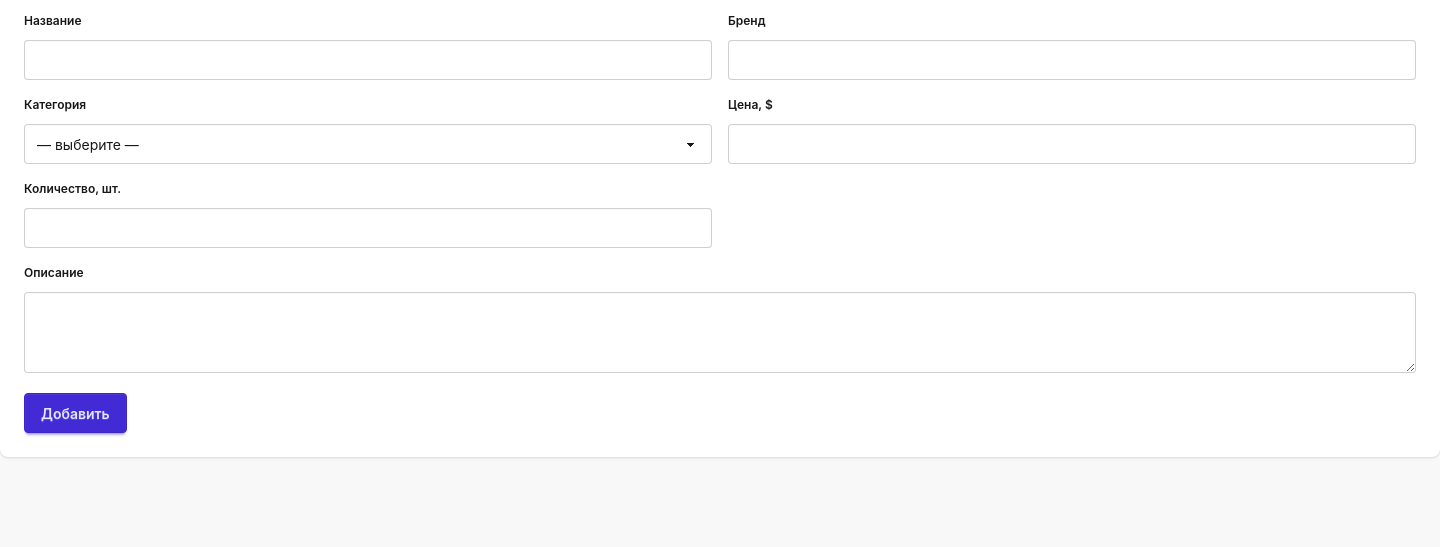
Test: ProductForm › показывает сообщение Zod при неверном вводе и не отправляет форму
This screenshot has width=1440, height=547.
Type "A" into the field labelled "Название" at {"x": 368, "y": 60}, box [24,40,712,80]
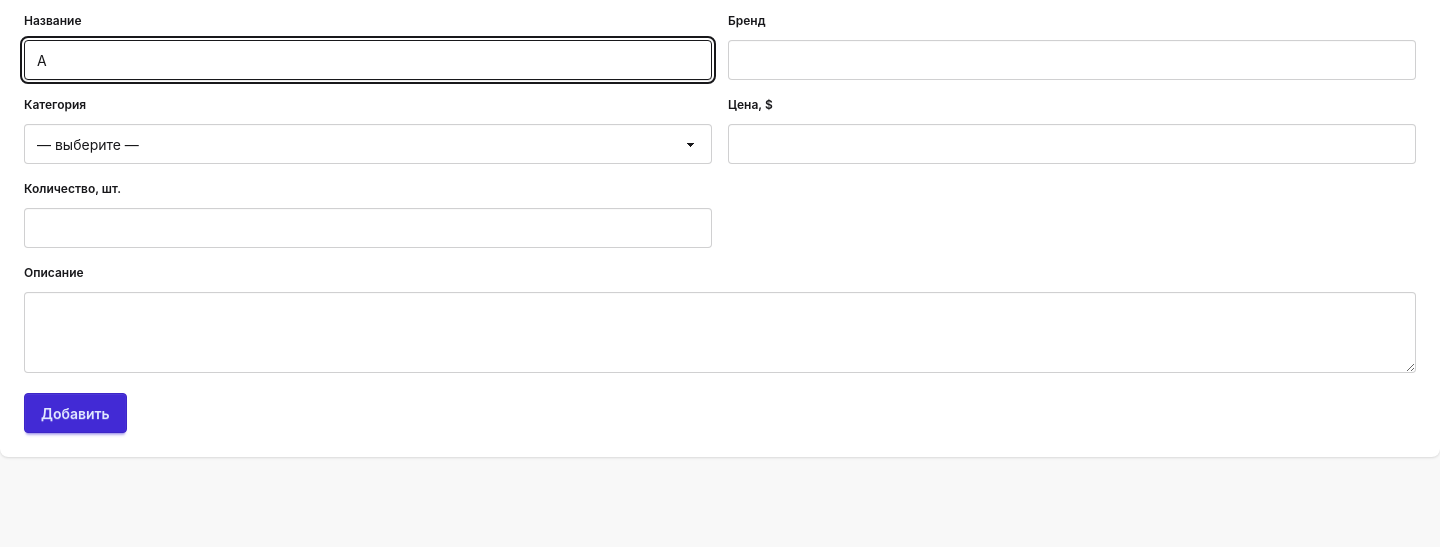
Type "-5" into the number field labelled "Цена, $" at {"x": 1072, "y": 144}, box [728,124,1416,164]
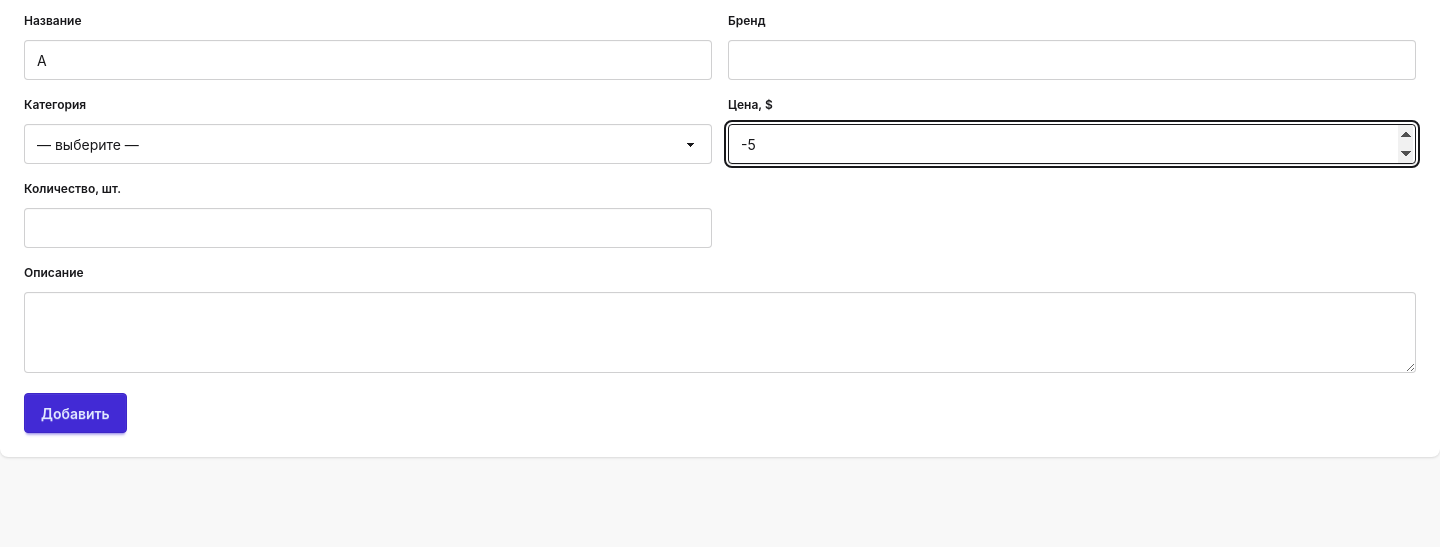
Click the button "Добавить" at {"x": 75, "y": 413}, box [24,393,127,433]
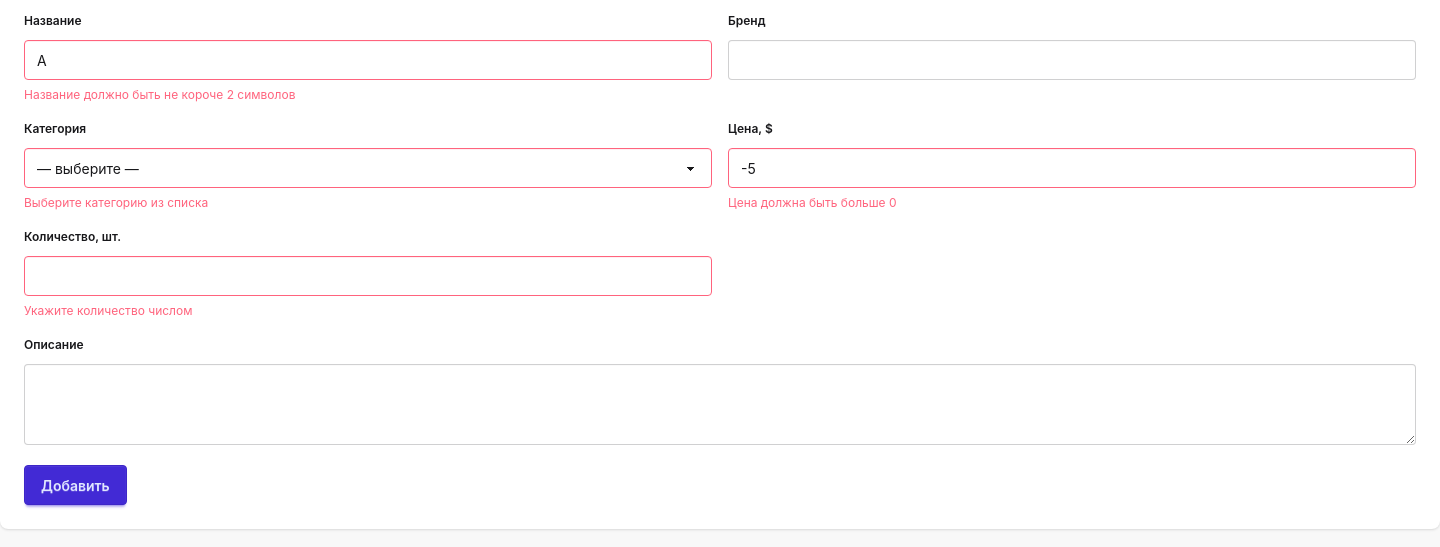
Expected: the text "Название должно быть не короче 2 символов" is shown, [24,87,295,102]
Expected: the text "Цена должна быть больше 0" is shown, [728,195,896,210]
Expected: the text "Выберите категорию из списка" is shown, [24,195,208,210]
